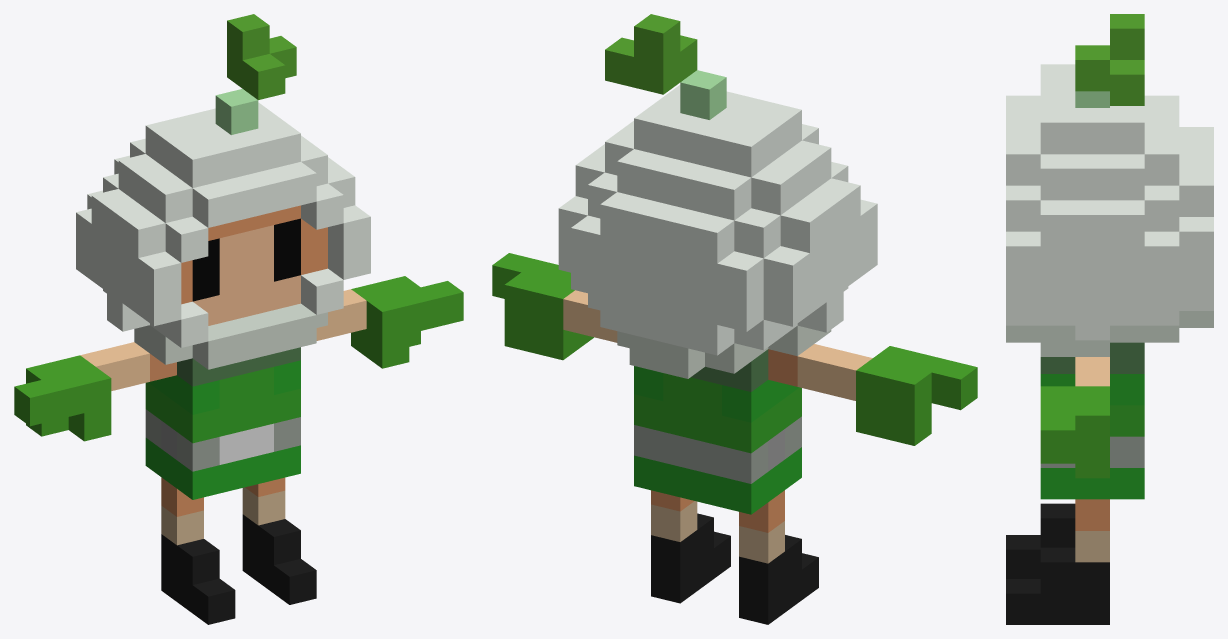
Rendered from green1.obj.
The picture shows the model from 3 angles, left to right: view 1: azimuth 30°, elevation 25°; view 2: azimuth 150°, elevation 25°; view 3: azimuth 270°, elevation 25°; orthographic projection. The views are drawn at different scales.
Size of the model in its own units: 16 by 19 by 6.
